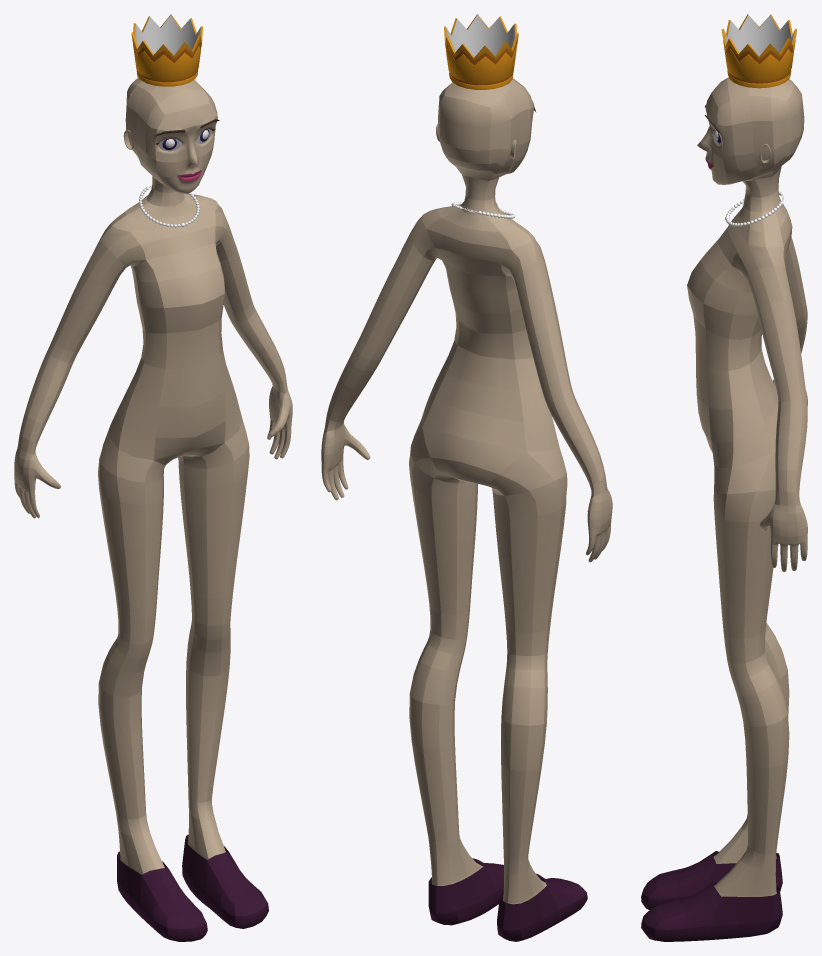
File: Character_Prenses.fbx
3 renders of one model, left to right at view 1: azimuth 30°, elevation 25°; view 2: azimuth 150°, elevation 25°; view 3: azimuth 270°, elevation 25°, orthographic. The views are drawn at different scales.
Parts seen in each view (by area): view 1: Character, Shoes, Crown; view 2: Character, Shoes, Crown; view 3: Character, Shoes, Crown.
Part boxes in pixels (<box>): Character: <box>14,77,292,874</box>; Shoes: <box>117,834,268,941</box>; Crown: <box>131,14,202,86</box>; Character: <box>321,78,612,904</box>; Shoes: <box>428,858,587,941</box>; Crown: <box>444,14,518,89</box>; Character: <box>687,77,807,896</box>; Shoes: <box>641,851,782,941</box>; Crown: <box>721,14,796,88</box>.
Bounding box in the file's own units: 54.9 × 169 × 28.59.
